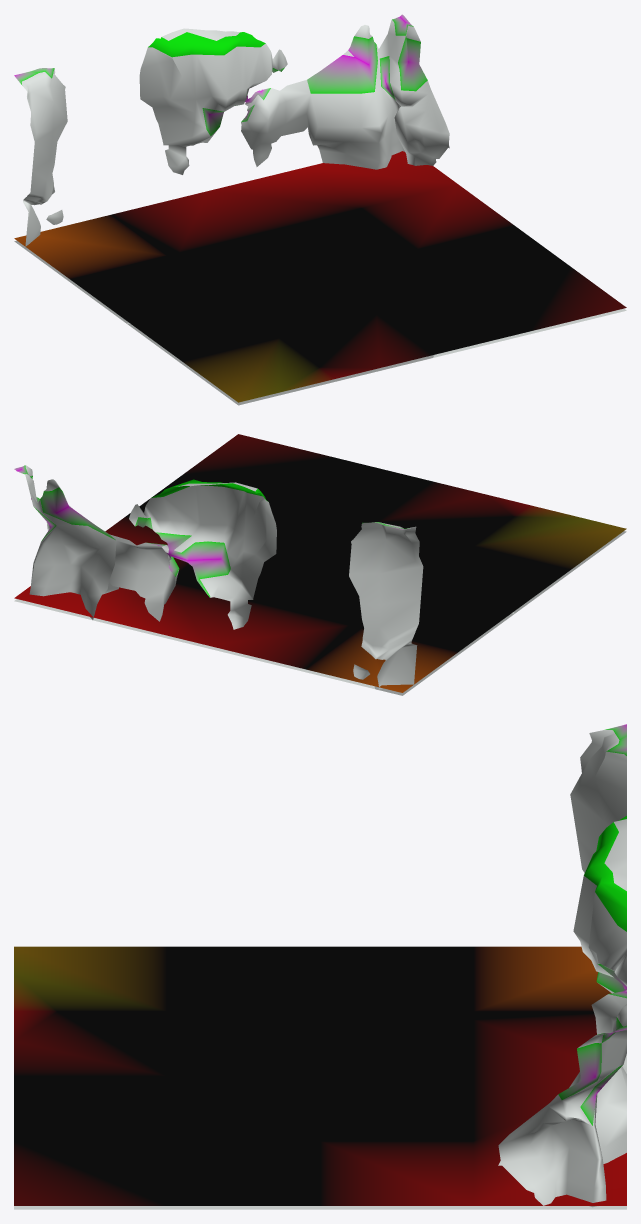
3 renders of one model, top to bottom at view 1: azimuth 30°, elevation 25°; view 2: azimuth 150°, elevation 25°; view 3: azimuth 270°, elevation 25°, orthographic. The views are drawn at different scales.
Parts seen in each view (by area): view 1: G:\FFXIV-MapTools\exports\f1f1\bg\ffxiv\fst_f1\fld\f1f1\bgpl (×6); view 2: G:\FFXIV-MapTools\exports\f1f1\bg\ffxiv\fst_f1\fld\f1f1\bgpl (×5); view 3: G:\FFXIV-MapTools\exports\f1f1\bg\ffxiv\fst_f1\fld\f1f1\bgpl (×6).
Part boxes in pixels (bbox=[...]): G:\FFXIV-MapTools\exports\f1f1\bg\ffxiv\fst_f1\fld\f1f1\bgpl (×6): bbox=[14, 14, 626, 405]; G:\FFXIV-MapTools\exports\f1f1\bg\ffxiv\fst_f1\fld\f1f1\bgpl (×5): bbox=[14, 434, 626, 695]; G:\FFXIV-MapTools\exports\f1f1\bg\ffxiv\fst_f1\fld\f1f1\bgpl (×6): bbox=[14, 724, 626, 1209].
Bounding box in the file's own units: 128 × 53.92 × 128.
